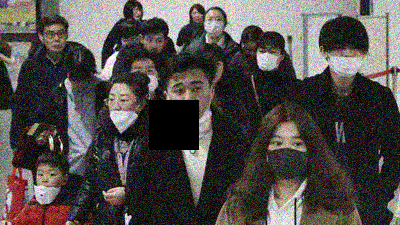mask_weared_incorrect: (169, 77, 213, 121), (109, 91, 139, 125), (36, 167, 63, 194)
with_mask: (263, 132, 310, 182), (327, 41, 365, 80), (130, 63, 161, 96), (256, 44, 282, 72), (204, 14, 225, 39)
without_mask: (42, 27, 69, 52), (142, 34, 166, 55), (68, 75, 93, 91), (243, 41, 260, 59), (191, 9, 205, 25), (132, 5, 144, 20)
